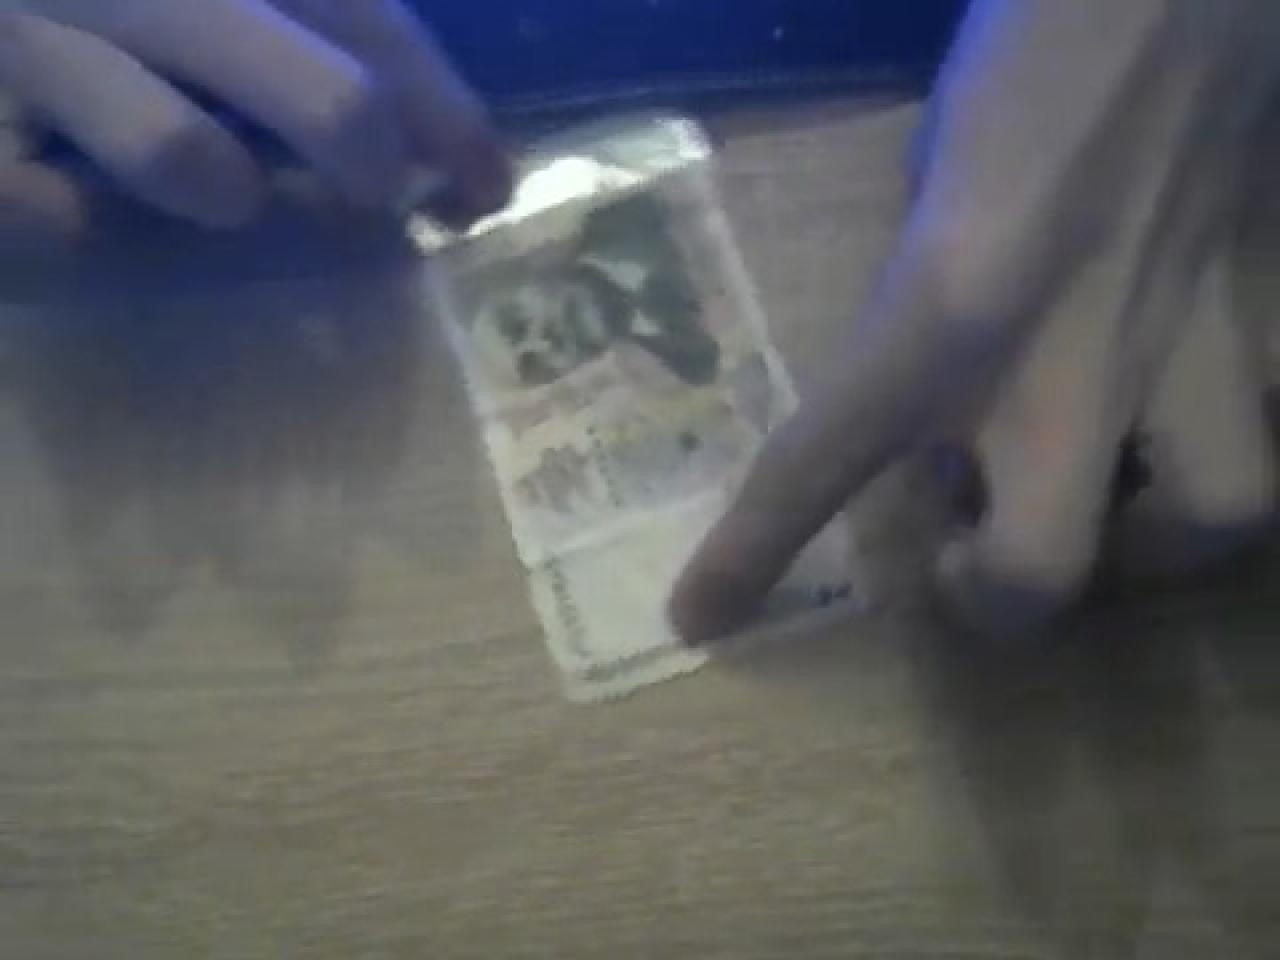10leva: (416, 109, 802, 709)
